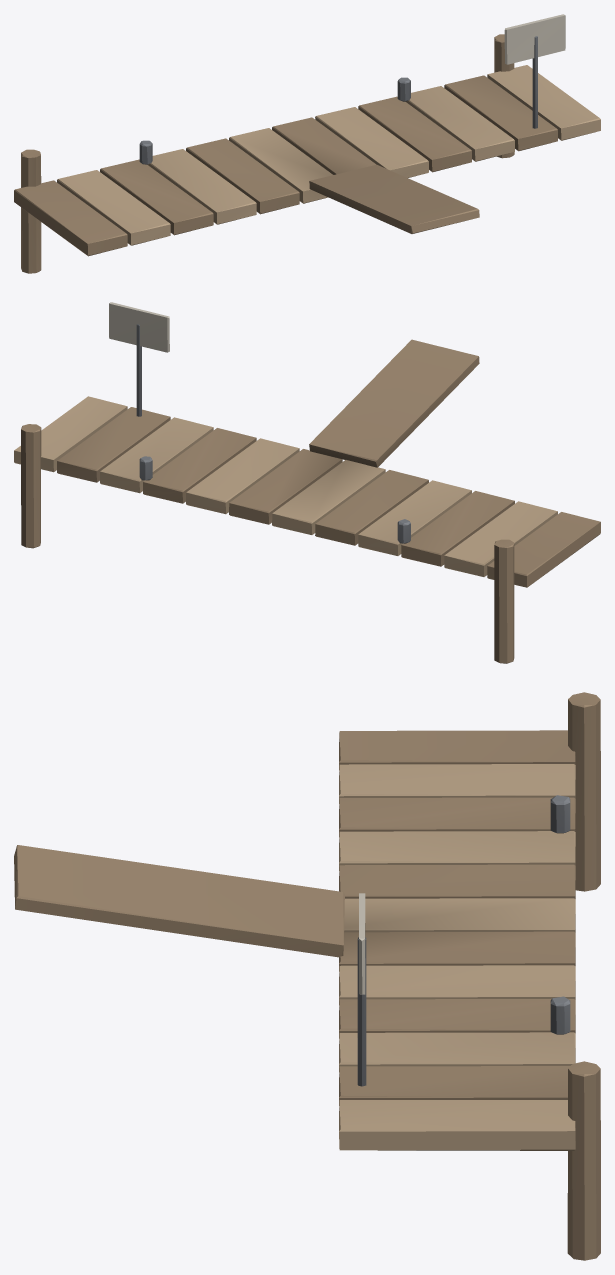
Rendered from dock_boat_low.glb.
3 views of the same model, one above another, from view 1: azimuth 30°, elevation 25°; view 2: azimuth 150°, elevation 25°; view 3: azimuth 270°, elevation 25° (orthographic). The views are drawn at different scales.
Bounding box in the file's own units: 11.93 × 4.29 × 7.39.
